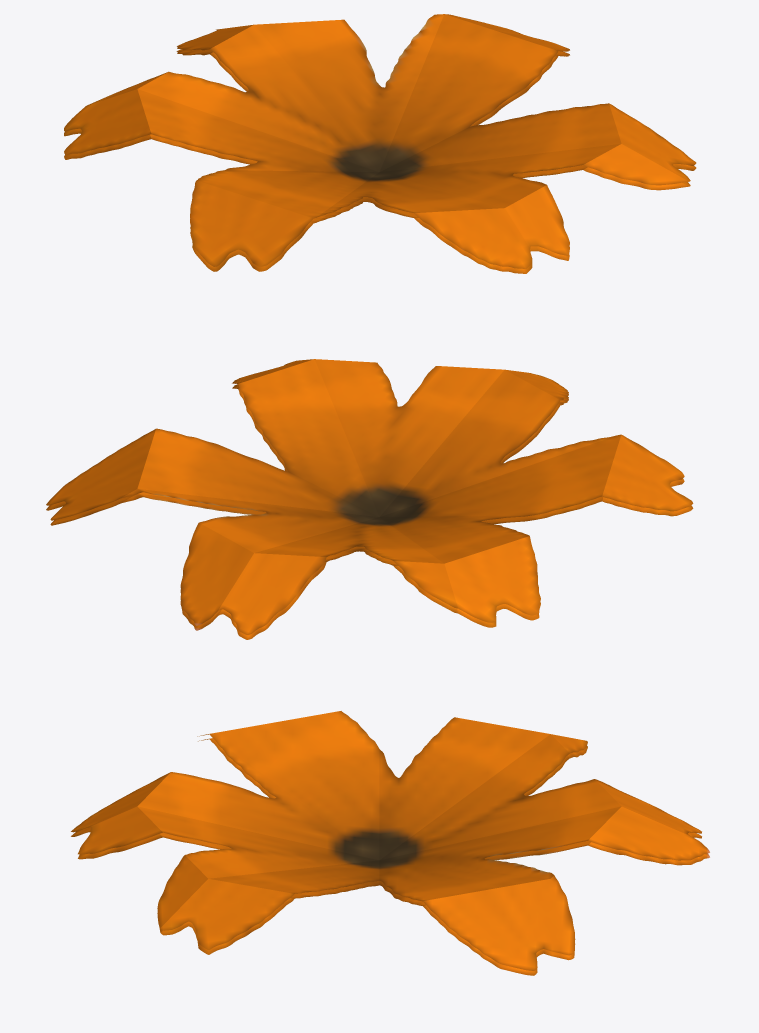
The model's file is Flower.fbx.
3 views of the same model, one above another, from view 1: azimuth 30°, elevation 25°; view 2: azimuth 150°, elevation 25°; view 3: azimuth 270°, elevation 25° (orthographic). The views are drawn at different scales.
Visible parts, largest first — view 1: pCylinder23; view 2: pCylinder23; view 3: pCylinder23.
Part boxes in pixels (<box>): pCylinder23: <box>64,14,696,273</box>; pCylinder23: <box>46,359,693,639</box>; pCylinder23: <box>71,711,709,975</box>.
Bounding box in the file's own units: 0.1672 × 0.0148 × 0.1672.
